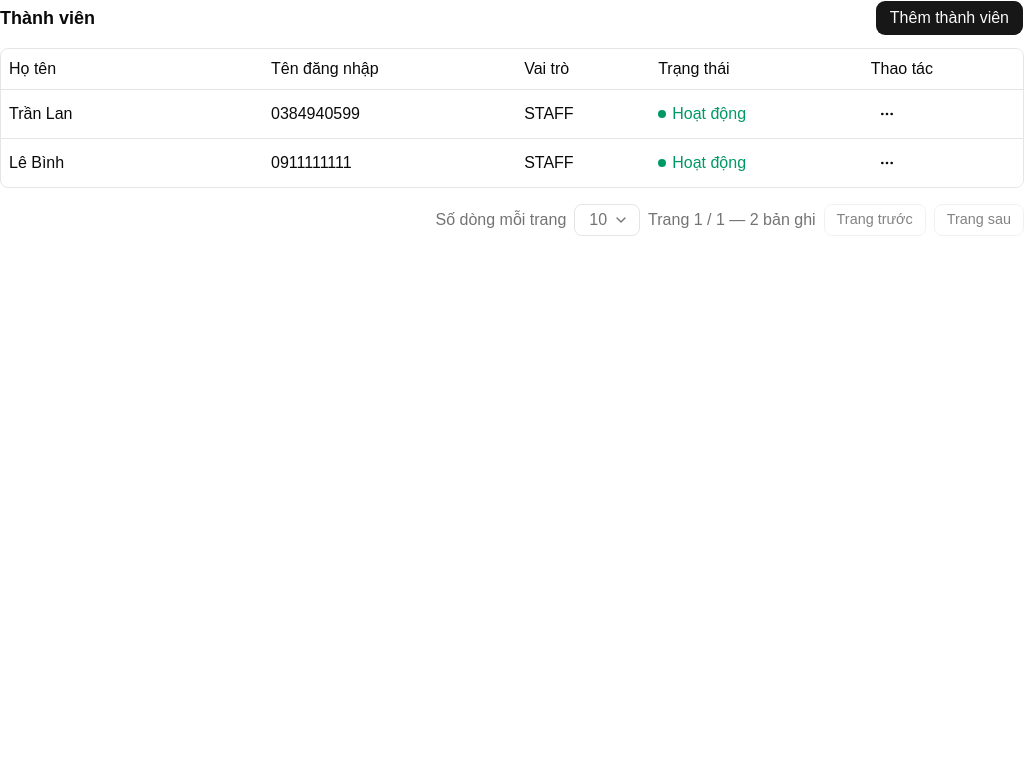
Test: WarehouseMembers › canManage=true → nút Thêm mở hộp thêm; mỗi dòng có menu ⋯, mục "Gỡ khỏi kho" mở hộp gỡ
Expected: the button "Trần Lan" is shown, top-left (9, 102), bottom-right (72, 126)
Click the button "Thêm thành viên" at (949, 18), box top-left (875, 0), bottom-right (1023, 36)
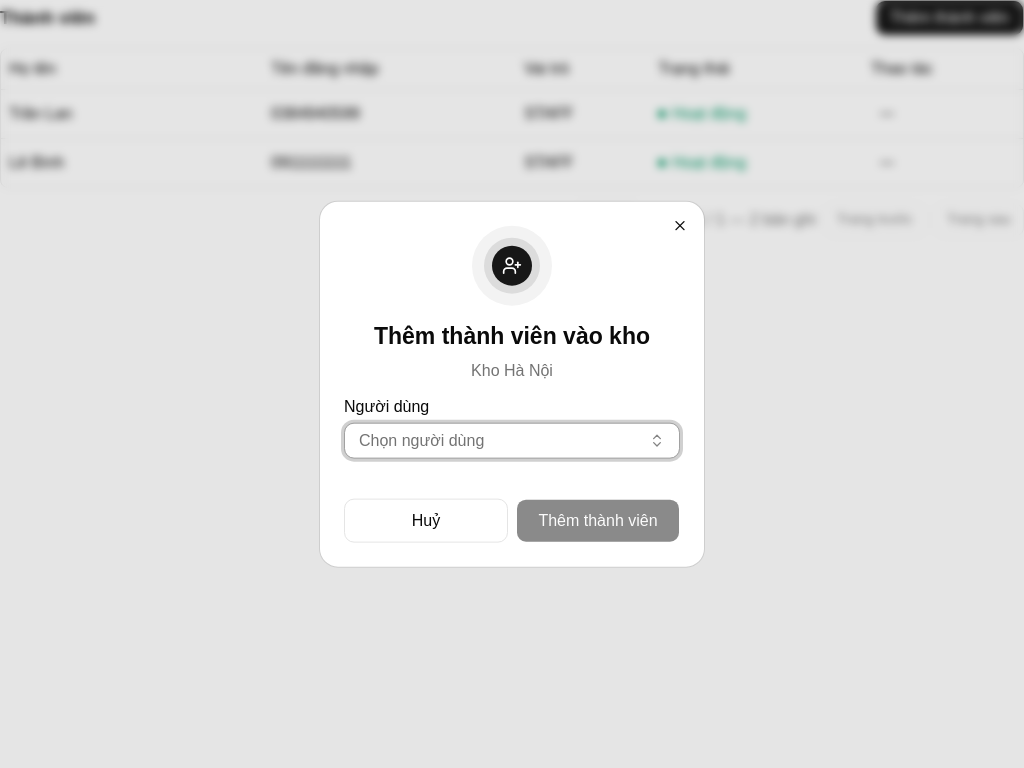
Expected: the dialog "Thêm thành viên vào kho" is shown, top-left (320, 202), bottom-right (704, 566)
Click the button "Huỷ" at (426, 520), box top-left (344, 498), bottom-right (508, 542)
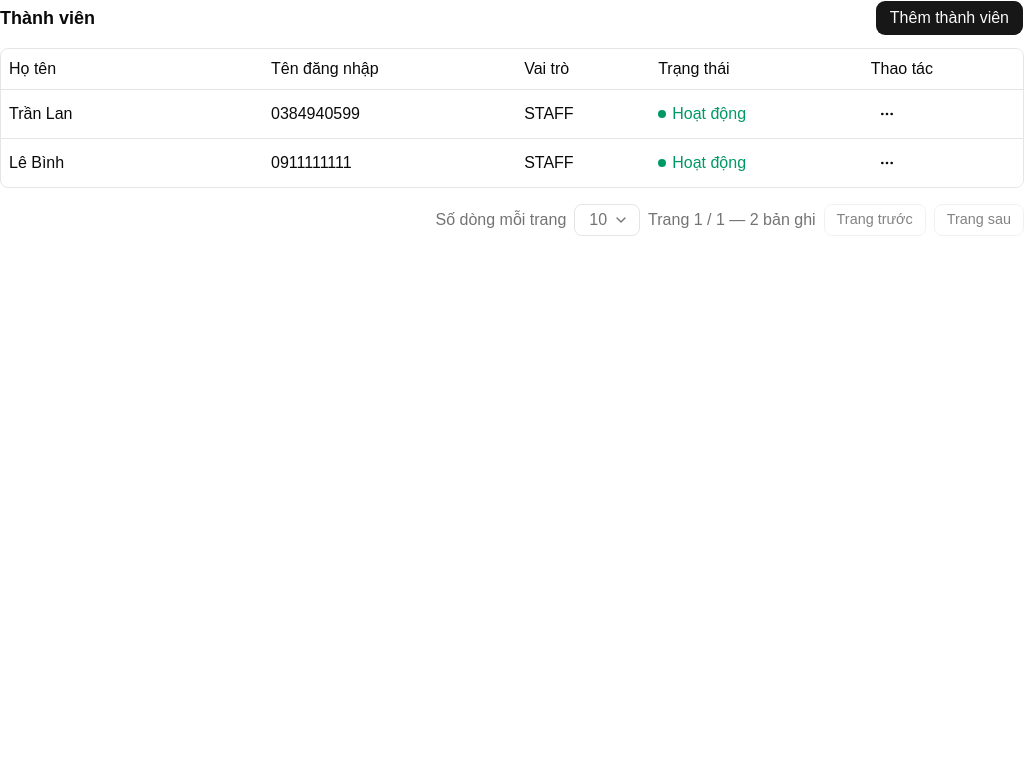
Expected: the button "Gỡ" is not shown
Expected: the dialog is gone
Expected: the number of buttons named "Thao tác với " is 2
Click the button named "Thao tác với Trần Lan" at (887, 114), box top-left (871, 98), bottom-right (903, 130)
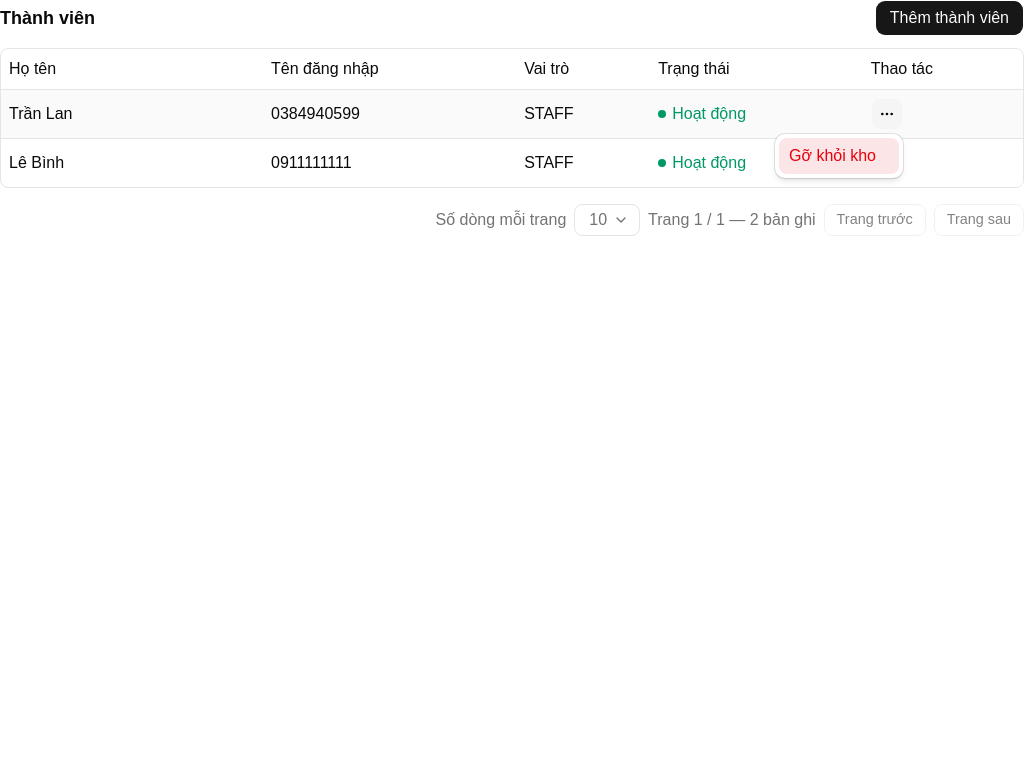
Click the menu item "Gỡ khỏi kho" at (839, 156), box top-left (779, 138), bottom-right (899, 174)
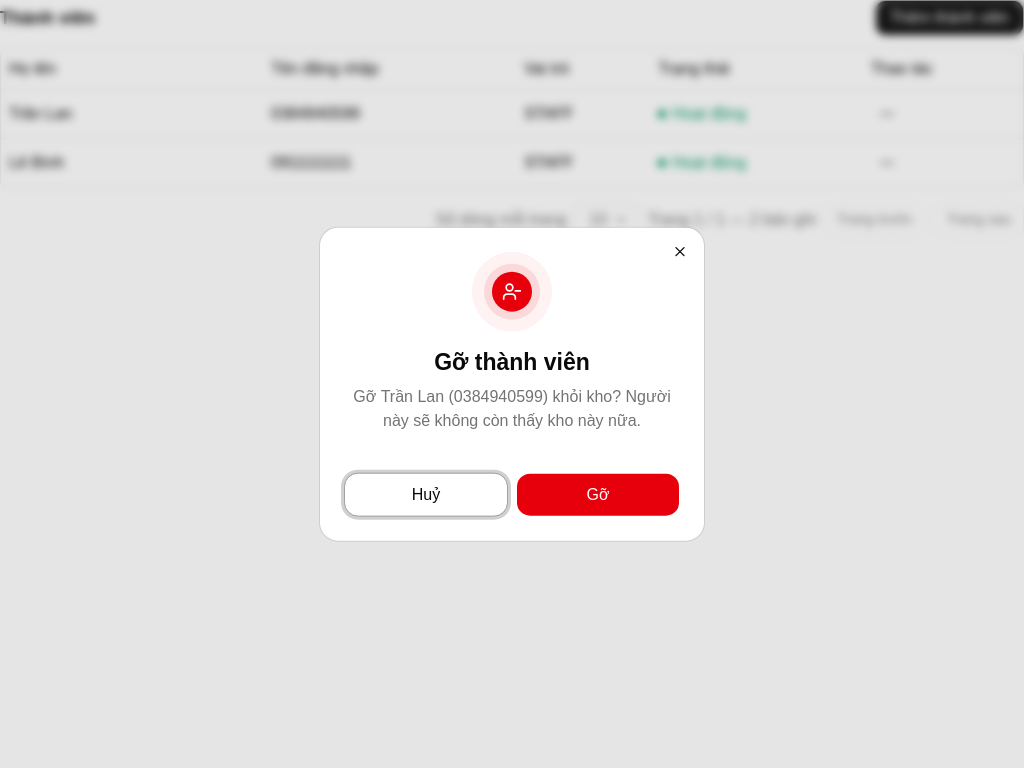
Expected: the heading "Gỡ thành viên" is shown, top-left (434, 348), bottom-right (590, 376)
Expected: the dialog shows "Trần Lan", top-left (381, 387), bottom-right (548, 404)
